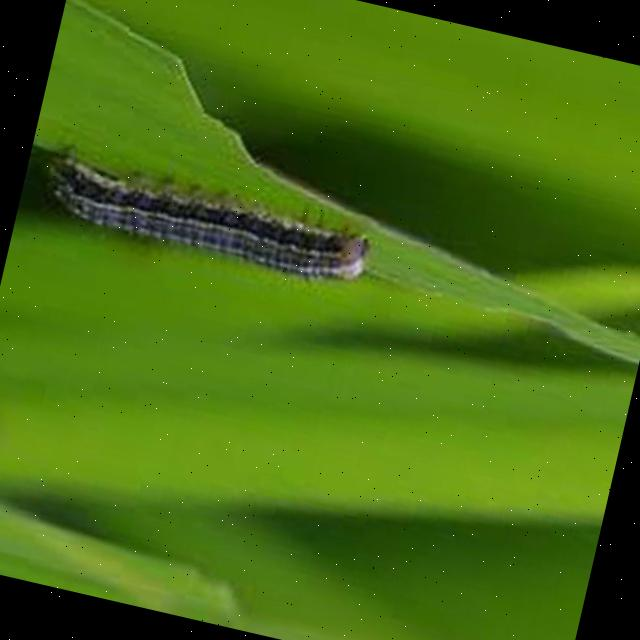worm: (32, 141, 379, 294)
